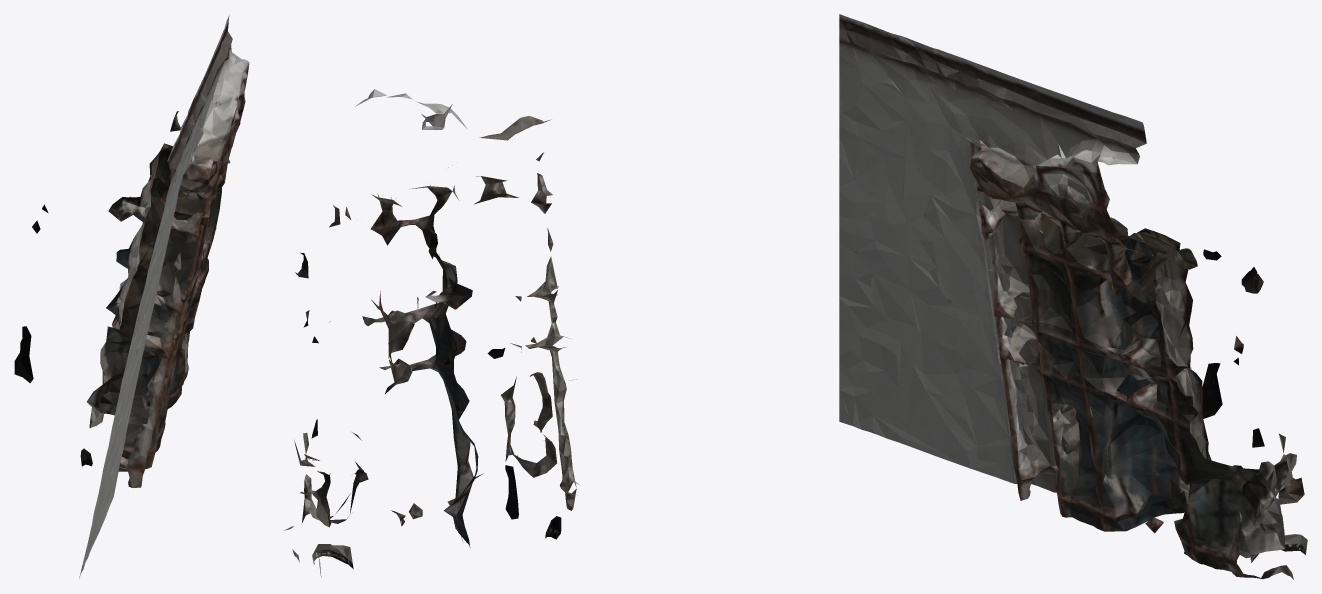
3 renders of one model, left to right at view 1: azimuth 30°, elevation 25°; view 2: azimuth 150°, elevation 25°; view 3: azimuth 270°, elevation 25°, orthographic. The views are drawn at different scales.
Size of the model in its own units: 1.24 by 1.67 by 1.55.
4 materials, 4 textured.
